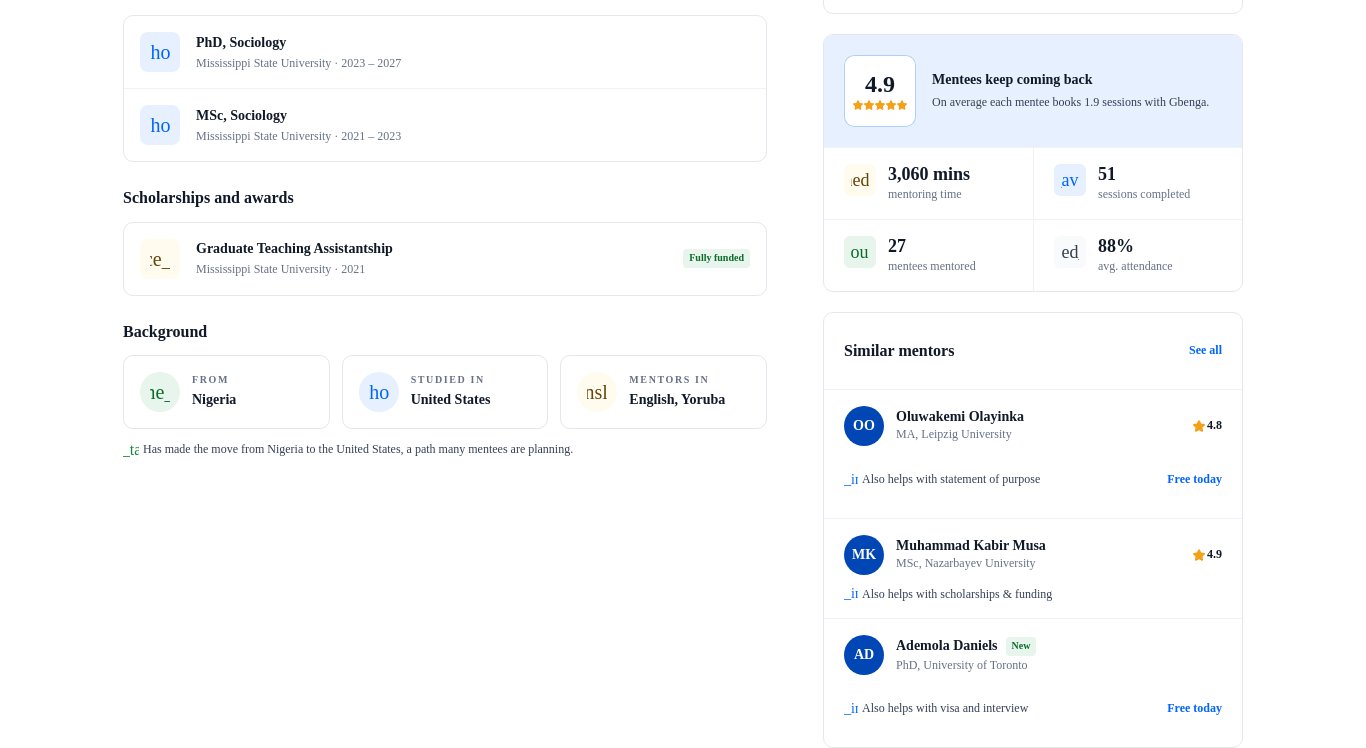
Test: suggestionsLine › a similar mentor’s next free time opens booking for that mentor
(page scrolled)
What coordinates should you click on to do the following:
click the button with aria-label "Book Oluwakemi Olayinka"
I would click on:
 (1195, 480)
Its box is x1=1167 y1=458 x2=1222 y2=502.
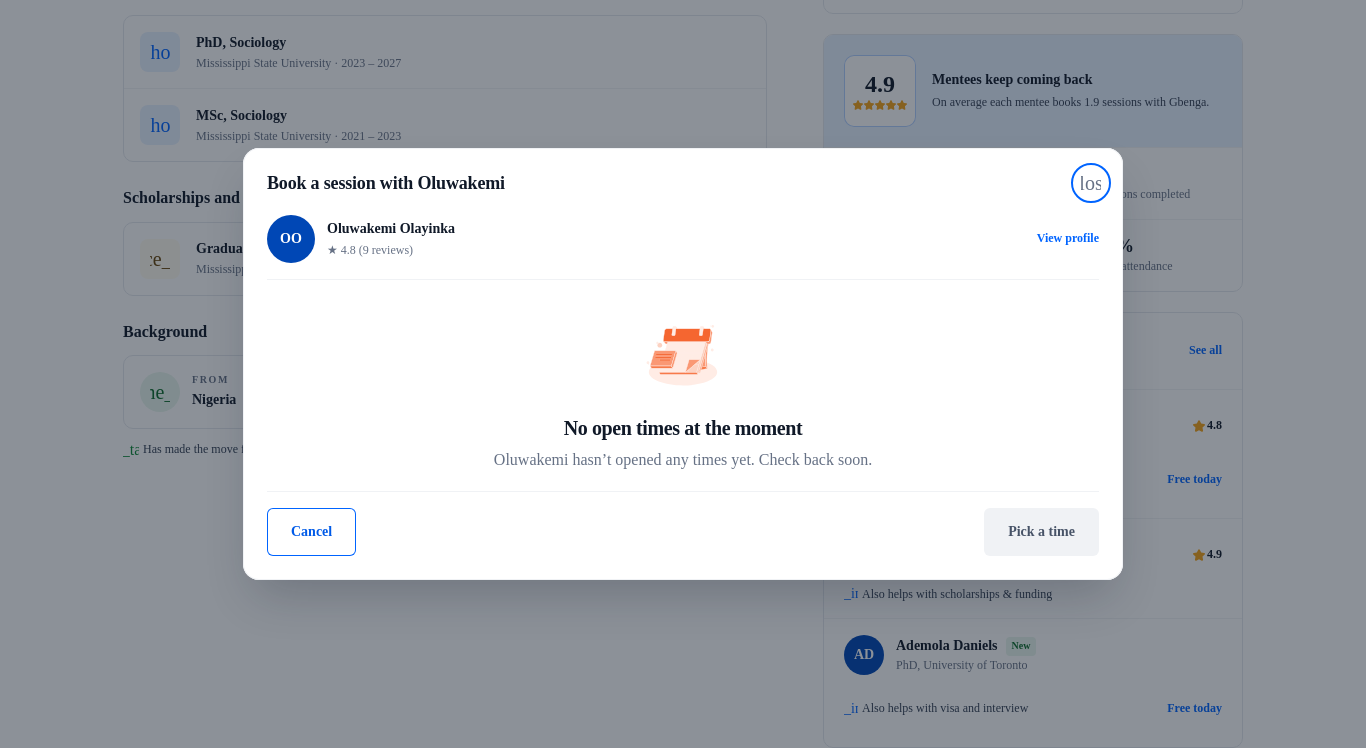
Expected: the dialog shows "Oluwakemi Olayinka", x1=327 y1=221 x2=455 y2=236
